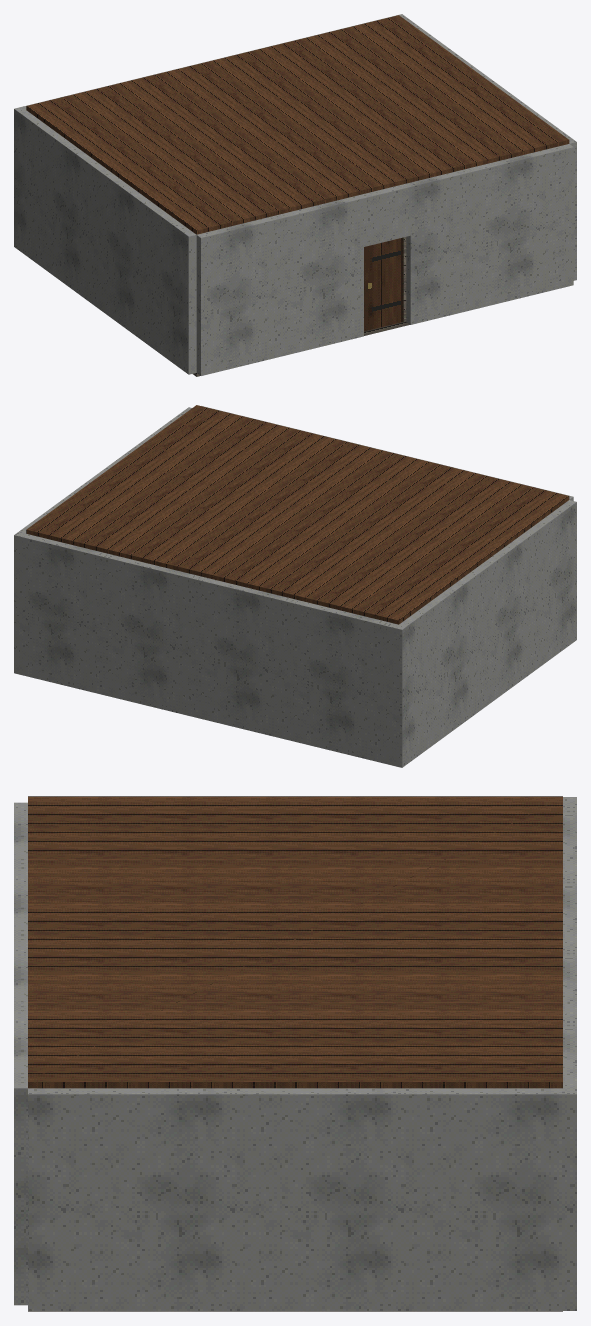
The model's file is capitania_dentro.obj.
3 renders of one model, top to bottom at view 1: azimuth 30°, elevation 25°; view 2: azimuth 150°, elevation 25°; view 3: azimuth 270°, elevation 25°, orthographic. The views are drawn at different scales.
Visible parts, largest first — view 1: capitania_dentro; view 2: capitania_dentro; view 3: capitania_dentro.
Boxes of the visible parts, x1=… form: capitania_dentro: x1=14, y1=14, x2=576, y2=376; capitania_dentro: x1=14, y1=405, x2=576, y2=767; capitania_dentro: x1=14, y1=796, x2=576, y2=1311.
Size of the model in its own units: 10 by 3.6 by 8.
5 materials, 5 textured.
